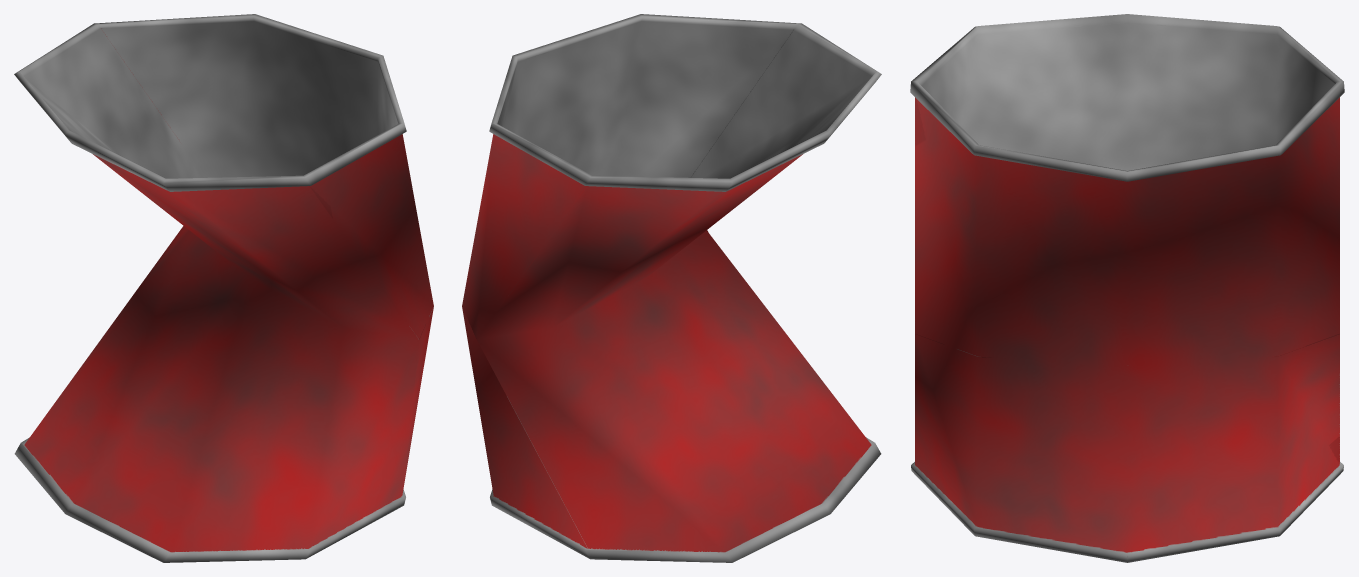
File: cup_01.fbx
3 views of the same model, side by side, from view 1: azimuth 30°, elevation 25°; view 2: azimuth 150°, elevation 25°; view 3: azimuth 270°, elevation 25° (orthographic). The views are drawn at different scales.
Parts seen in each view (by area): view 1: Cylinder; view 2: Cylinder; view 3: Cylinder.
Boxes of the visible parts, box(x1,y1,x2,y2) form: Cylinder: box(14, 14, 433, 562); Cylinder: box(462, 14, 881, 562); Cylinder: box(910, 14, 1344, 562).
Bounding box in the file's own units: 17.75 × 20.44 × 20.45.
2 materials, 2 textured.
